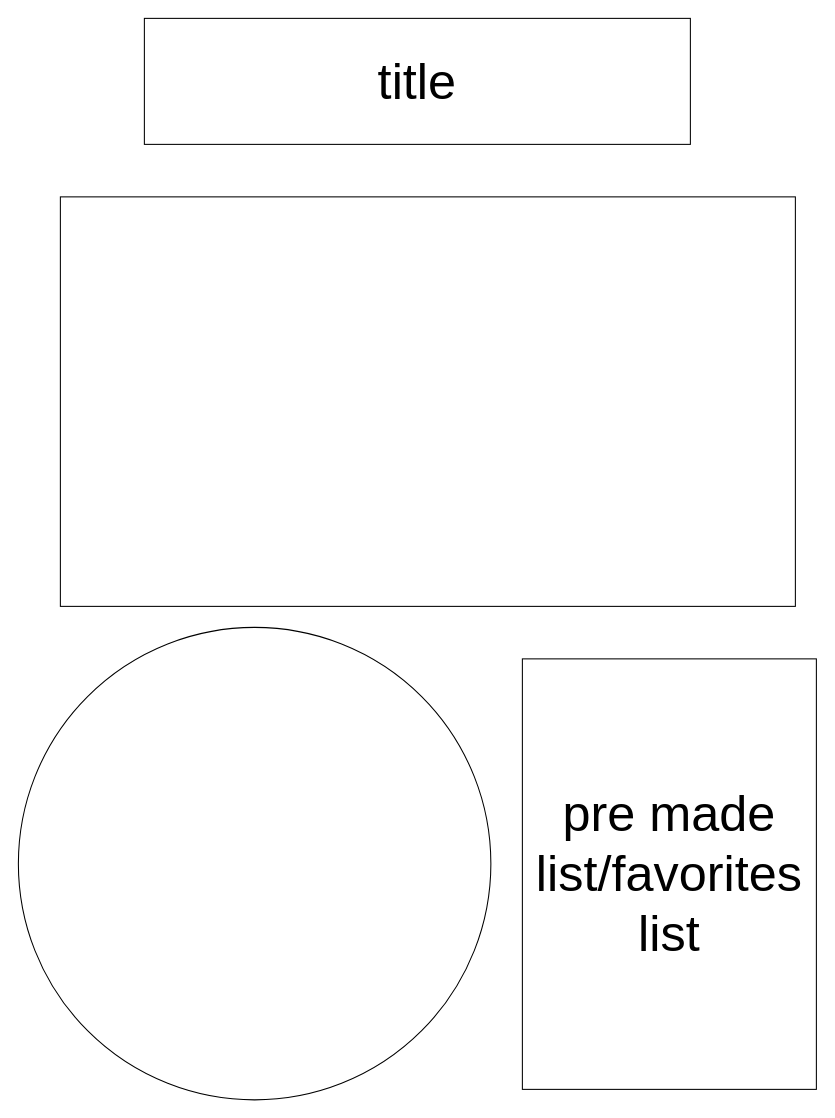
Some shapes in this 835 by 1118 pixel diagram are drawn without their labels. Each missing label, with the centre of its shape:
"map to place pin" goes at (427,401).
"randomized wheel based on location" goes at (254,863).
